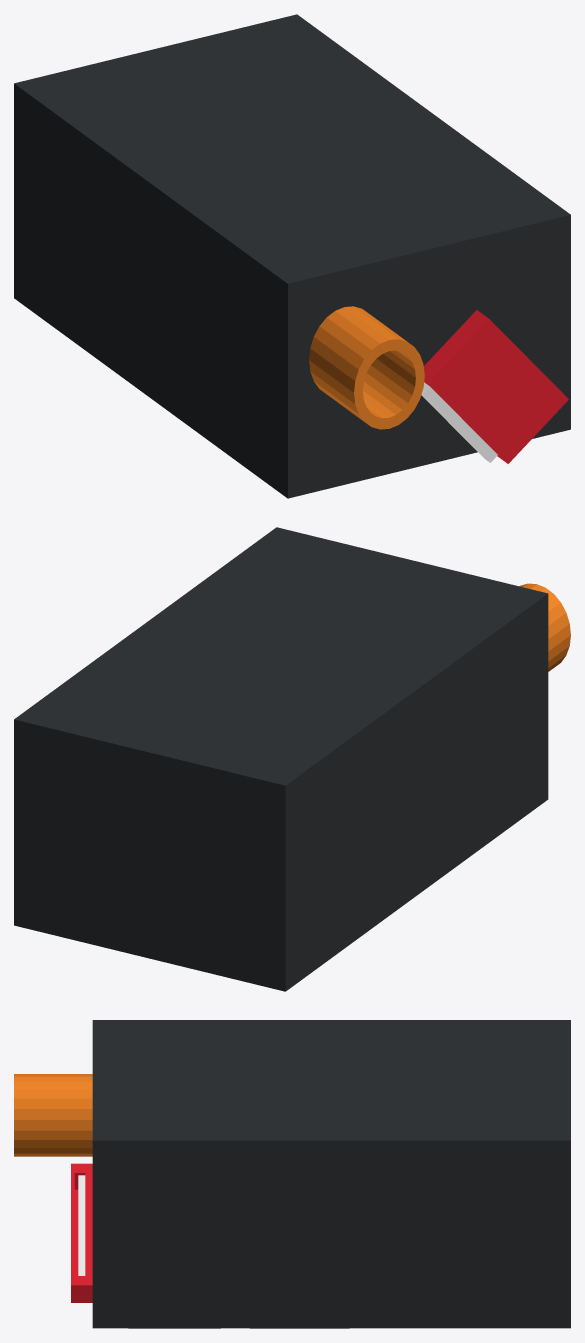
Rendered from tinker.obj.
The picture shows the model from 3 angles, top to bottom: view 1: azimuth 30°, elevation 25°; view 2: azimuth 150°, elevation 25°; view 3: azimuth 270°, elevation 25°; orthographic projection. The views are drawn at different scales.
Parts seen in each view (by area): view 1: group_0_2829873, group_0_15277357, group_0_16089887, group_0_16448250; view 2: group_0_2829873, group_0_16089887; view 3: group_0_2829873, group_0_16089887, group_0_15277357, group_0_16448250.
Part boxes in pixels (bbox=[...]): group_0_2829873: bbox=[14, 14, 570, 498]; group_0_15277357: bbox=[424, 310, 568, 463]; group_0_16089887: bbox=[309, 306, 424, 429]; group_0_16448250: bbox=[421, 382, 497, 462]; group_0_2829873: bbox=[14, 527, 548, 991]; group_0_16089887: bbox=[519, 583, 570, 671]; group_0_2829873: bbox=[92, 1020, 570, 1328]; group_0_16089887: bbox=[14, 1074, 92, 1156]; group_0_15277357: bbox=[71, 1163, 92, 1302]; group_0_16448250: bbox=[78, 1175, 85, 1275].
Size of the model in its own units: 40 by 30 by 78.
